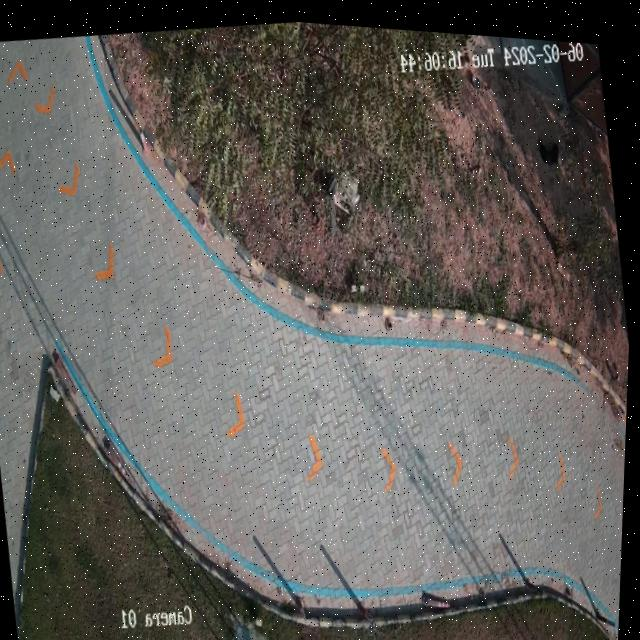No Car: (0, 17, 631, 640)
